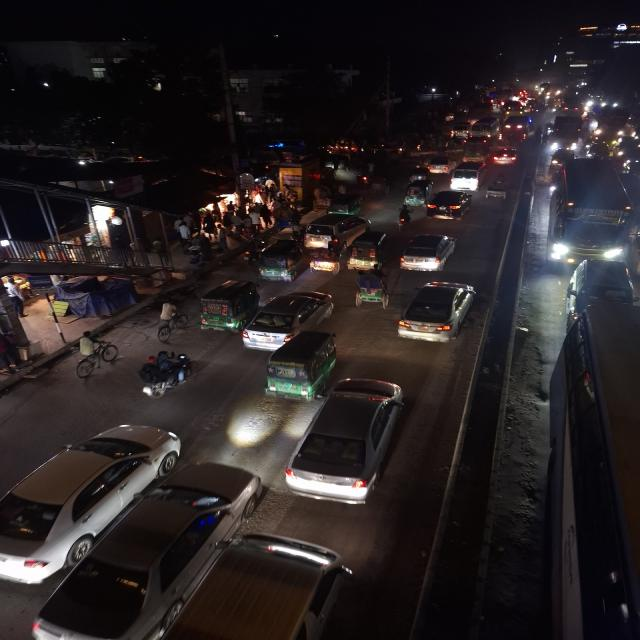bicycle: (69, 330, 119, 383), (152, 300, 188, 344)
bus: (548, 154, 636, 266), (590, 110, 630, 144), (498, 124, 528, 143)
car: (28, 480, 242, 640), (0, 417, 185, 589), (152, 533, 361, 640), (283, 375, 416, 508), (395, 277, 481, 348), (240, 288, 337, 350), (398, 231, 460, 273), (303, 214, 371, 250), (424, 188, 474, 220), (450, 160, 486, 192), (491, 143, 521, 167), (425, 155, 452, 175)
cng: (264, 329, 340, 401), (197, 278, 256, 334), (256, 240, 301, 284), (346, 229, 388, 273), (326, 193, 365, 215), (403, 180, 429, 206), (449, 122, 472, 140)
motorcycle: (134, 348, 195, 402), (394, 205, 413, 231)
pedestrian: (152, 301, 188, 344)
rickshaw: (350, 270, 393, 311), (306, 244, 342, 279), (271, 204, 303, 234), (486, 173, 508, 204)
truck: (547, 119, 584, 154)
